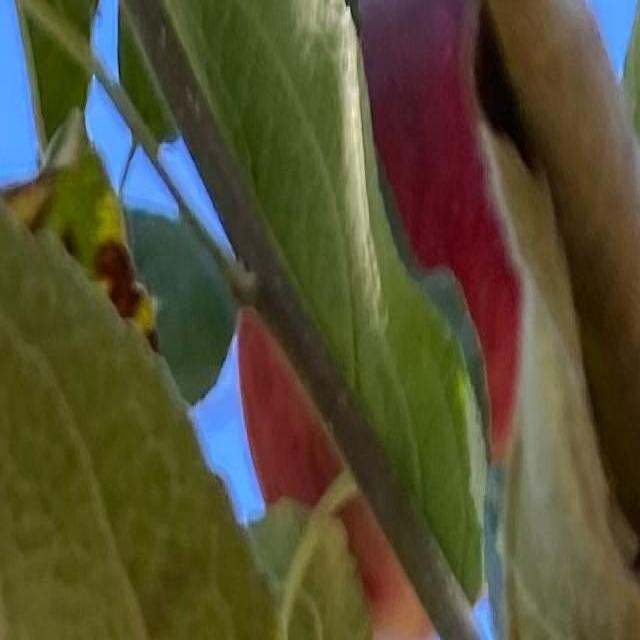Rotten Apple: (239, 0, 522, 640)
